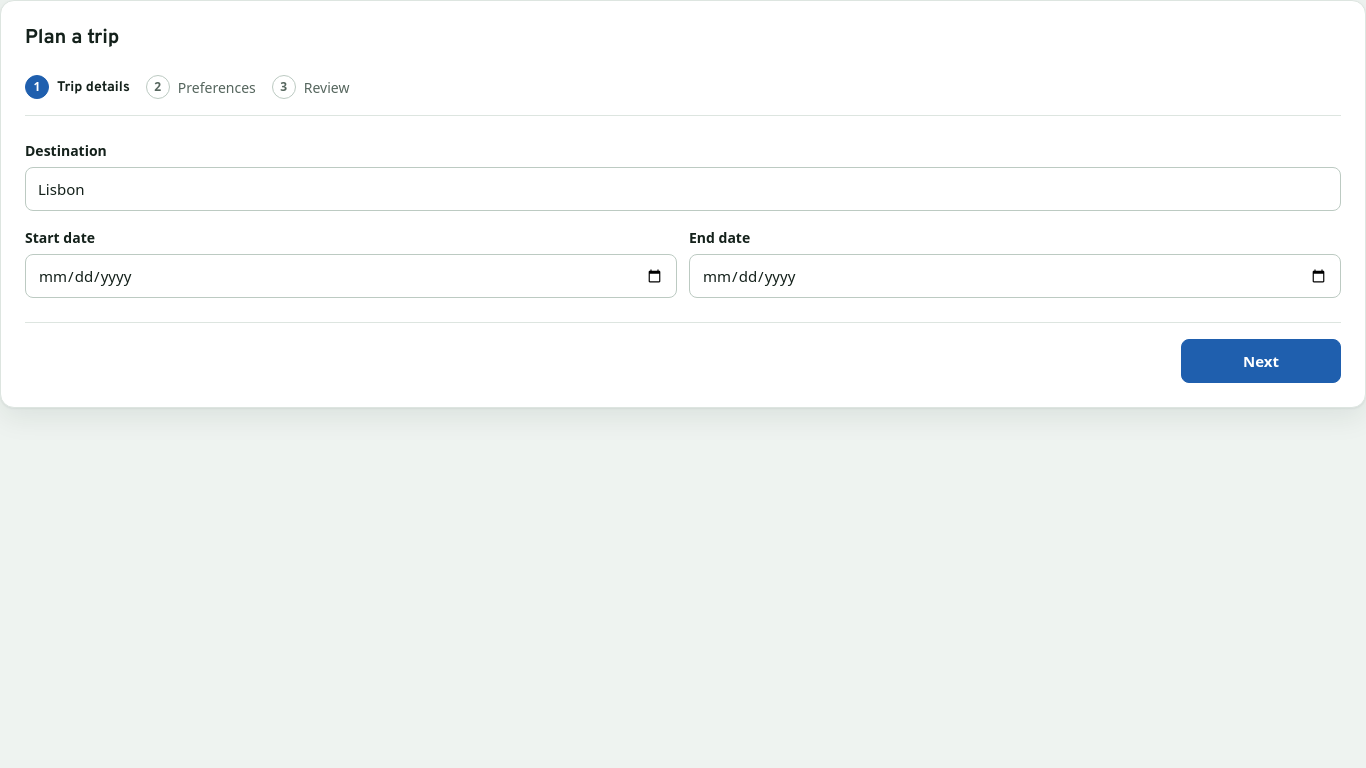
Scenario: PreferenceForm › moves forward when Enter submits a step
In the date field labelled "Start date": (351, 276) left=25, top=254, right=677, bottom=298, type "2030-05-01"
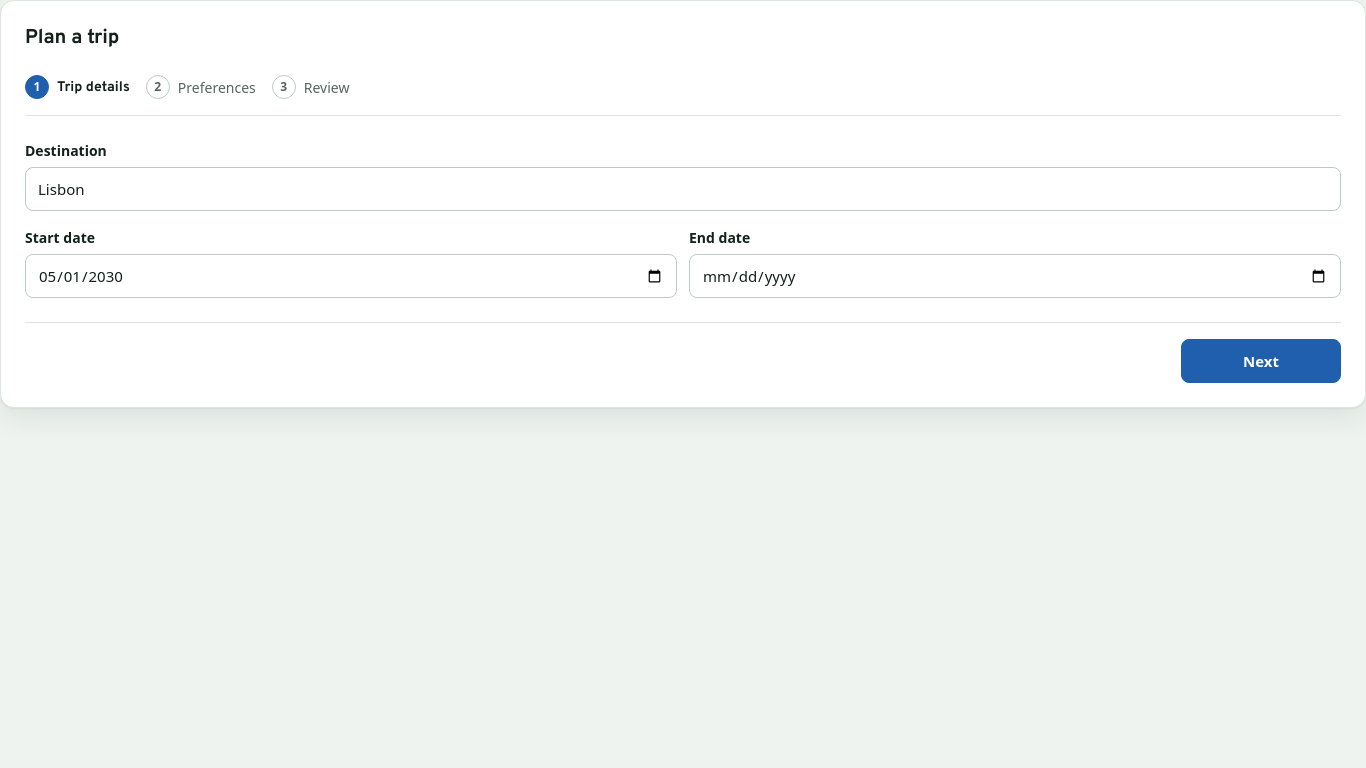
In the date field labelled "End date": (1015, 276) left=689, top=254, right=1341, bottom=298, type "2030-05-03"
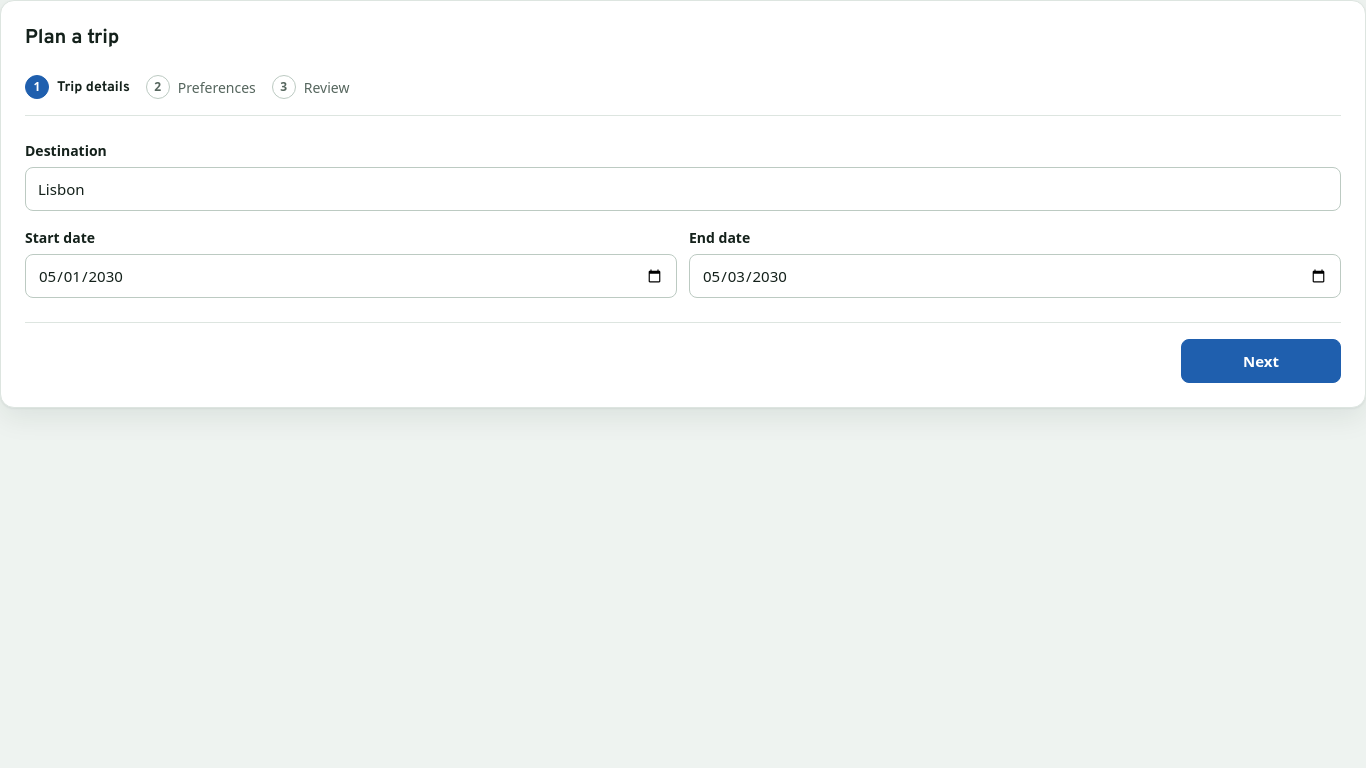
// Enter in a field submits the form, which advances the wizard.
Submit the form named "End date", box left=0, top=0, right=1365, bottom=408
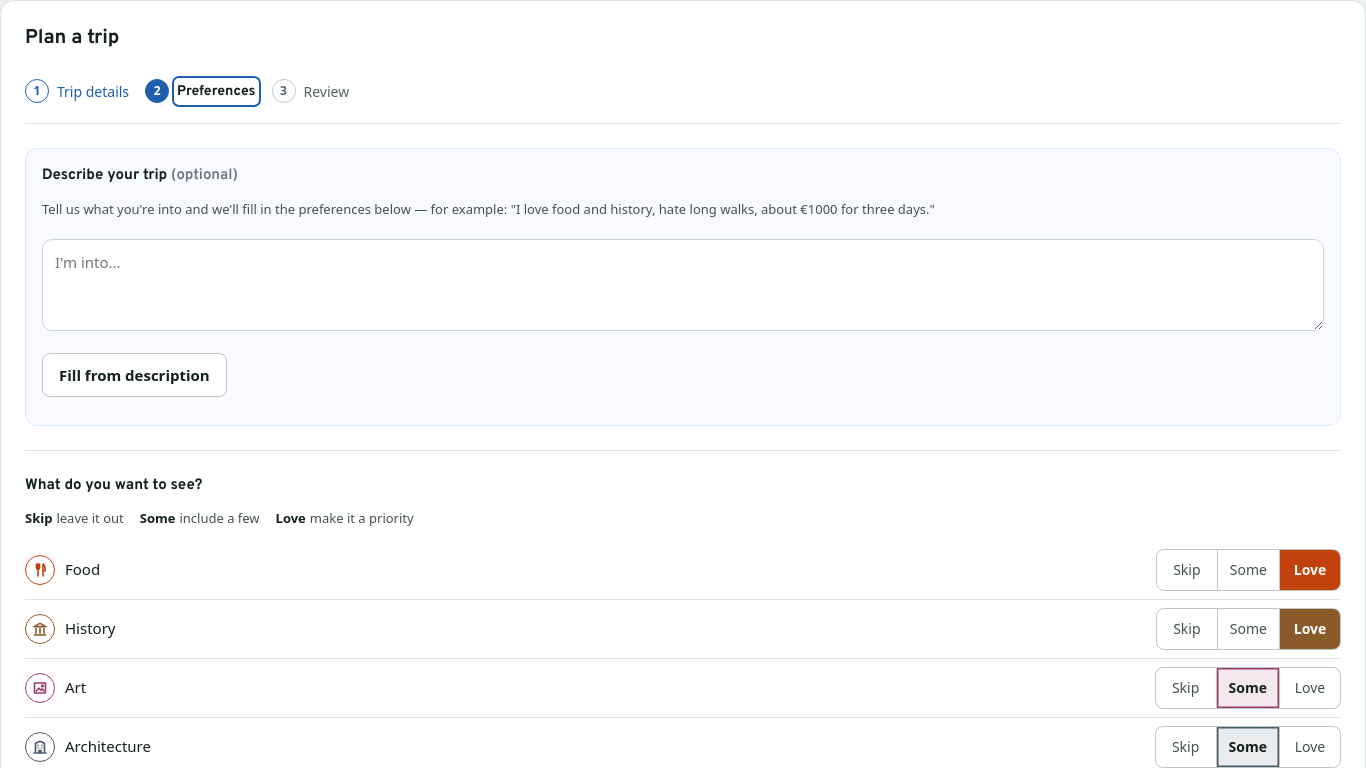
Expected: the heading "Preferences" is shown, left=177, top=80, right=256, bottom=102
